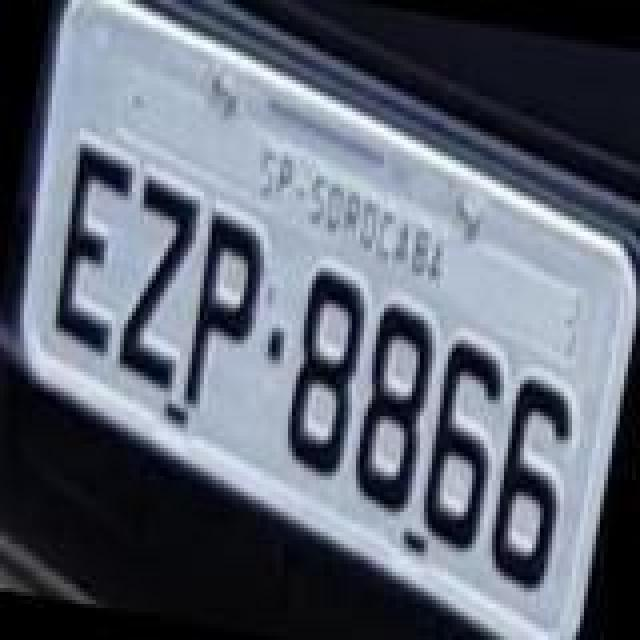6: (476, 372, 580, 596), (414, 336, 514, 560)
8: (340, 298, 444, 518), (278, 264, 378, 480)
E: (46, 138, 146, 358)
P: (176, 210, 272, 414)
Z: (110, 174, 210, 394)
